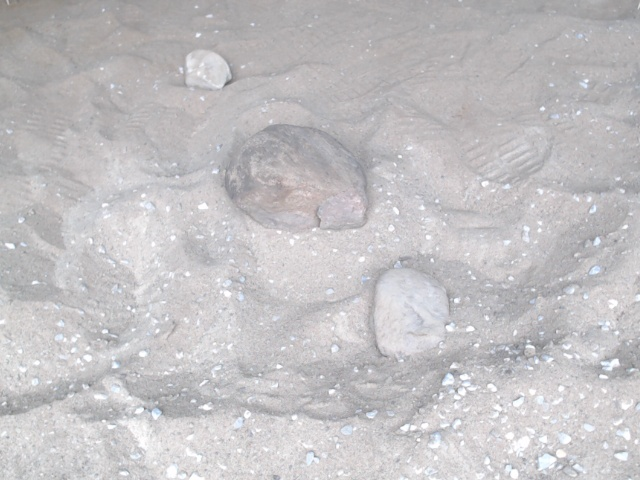rock: (219, 120, 373, 238), (365, 262, 456, 366), (179, 44, 237, 95)
